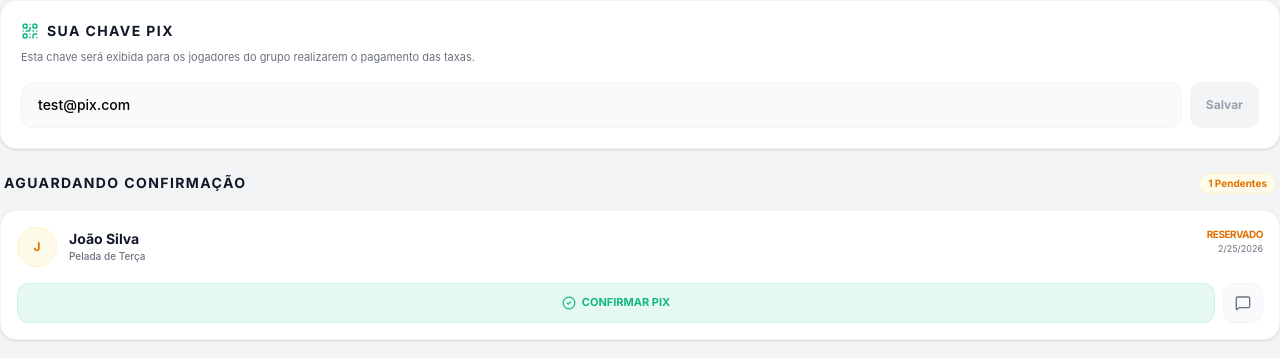
GroupFinanceTab Component › enables save button when PIX key is modified
Replace the text in the field showing "test@pix.com" with "new@pix.com": (601, 104) [21, 82, 1182, 128]
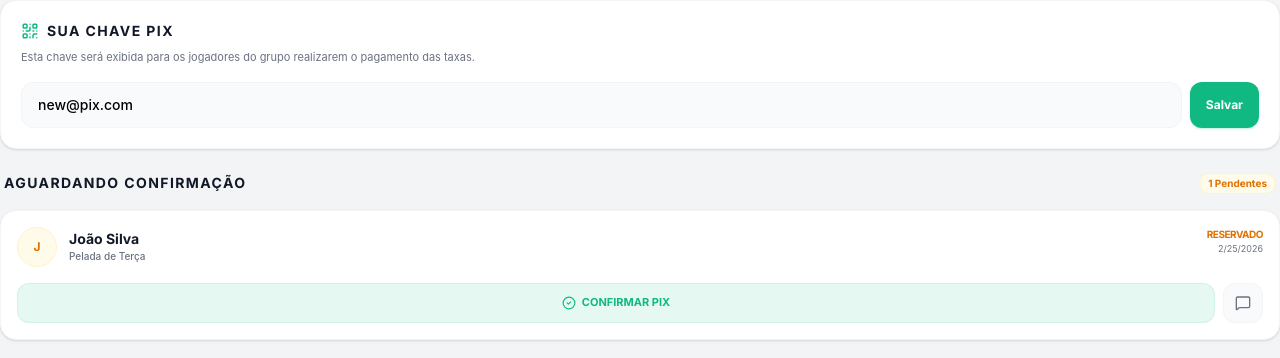
Now the button "Salvar" is enabled, box [1190, 82, 1259, 128]
